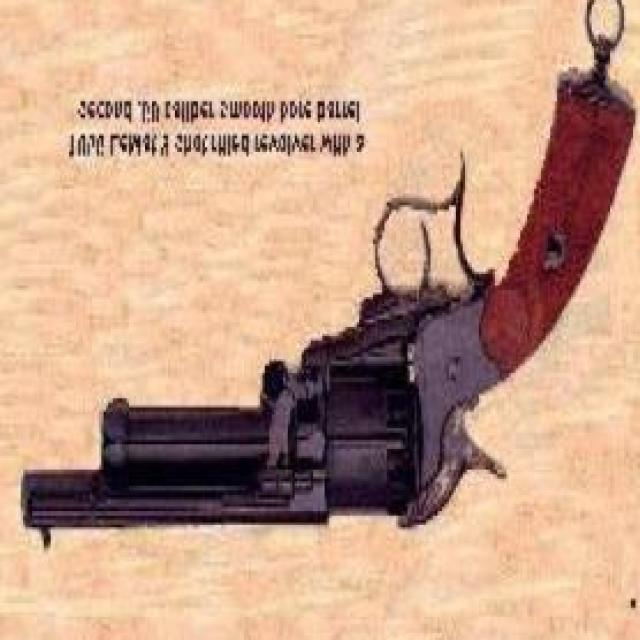pistol: (18, 62, 638, 557)
